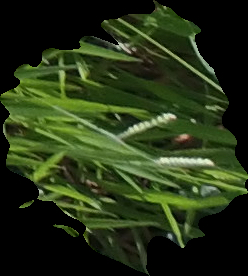grass: (1, 1, 246, 275)
